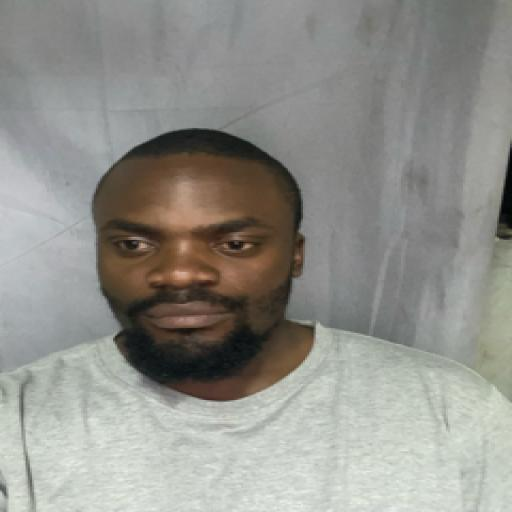JEANLUC: (82, 130, 335, 374)
